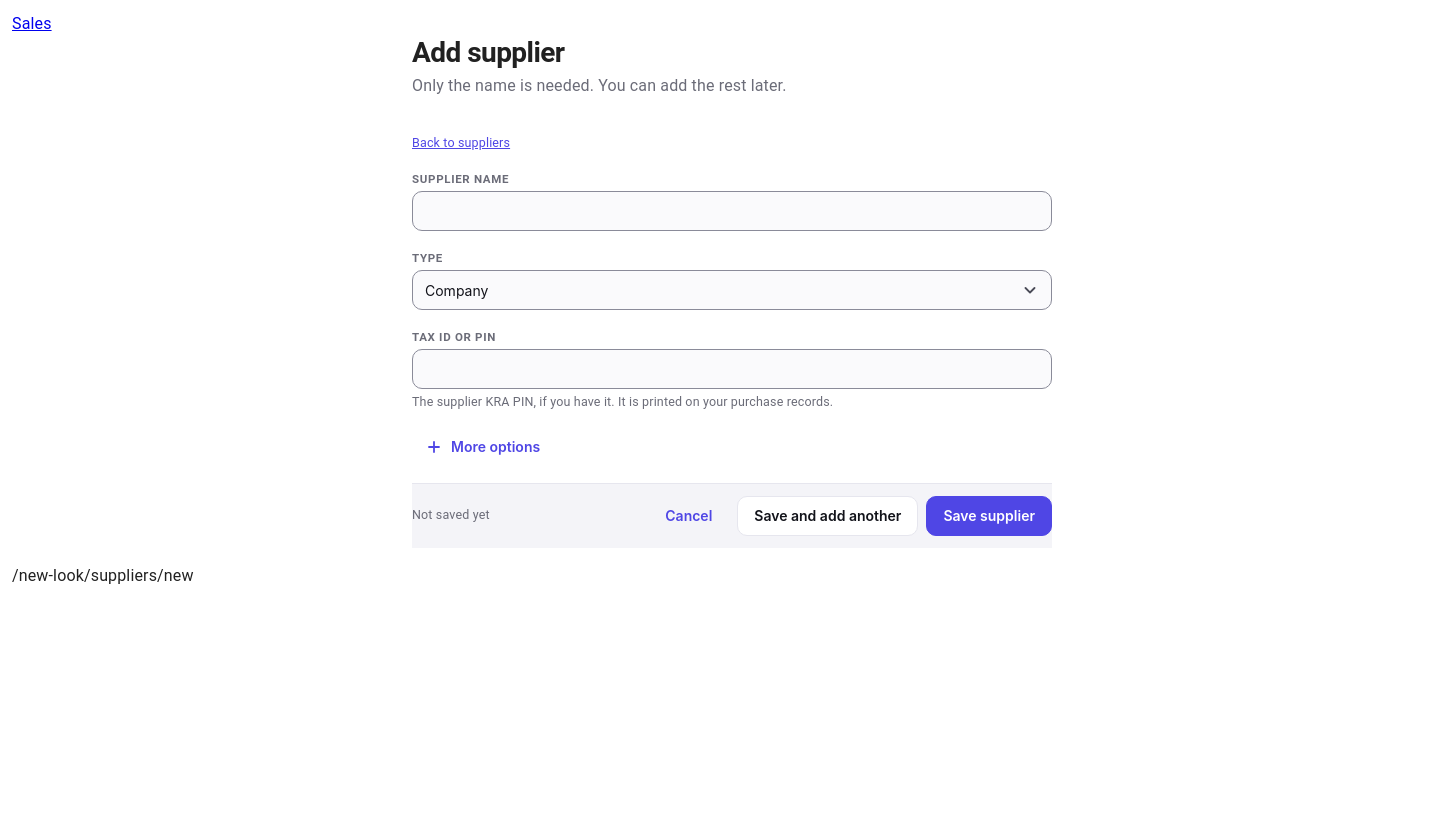
Scenario: errors beside the field and in the summary (AC-26) › a wrong currency hidden under More options opens it by itself and is explained beside the field
The image size is (1452, 822).
In the field labelled "Supplier name": (732, 211) top-left (413, 192), bottom-right (1051, 230), type "Mama Njeri Eggs"
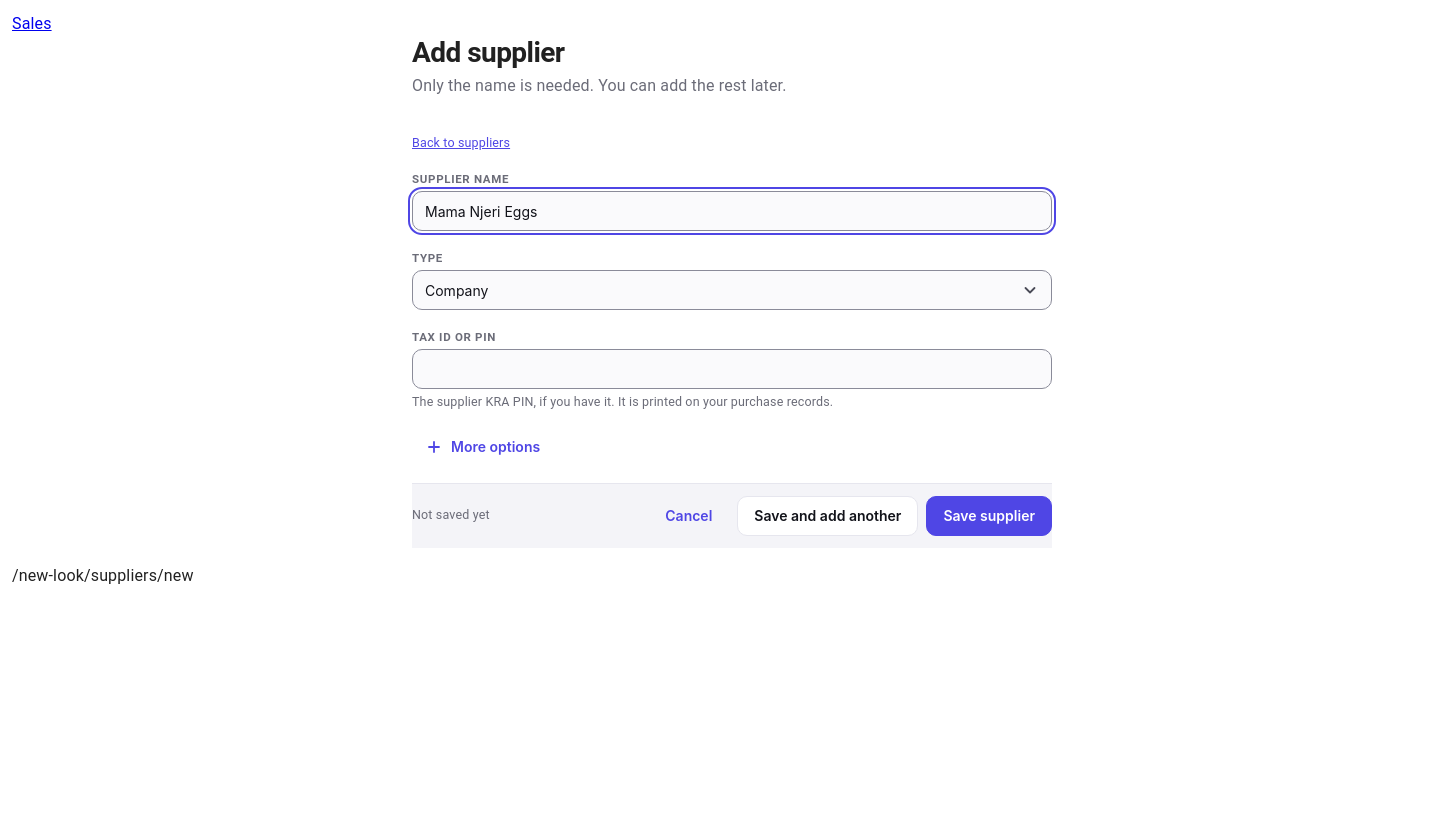
Click the button "More options": (483, 447) top-left (412, 431), bottom-right (553, 463)
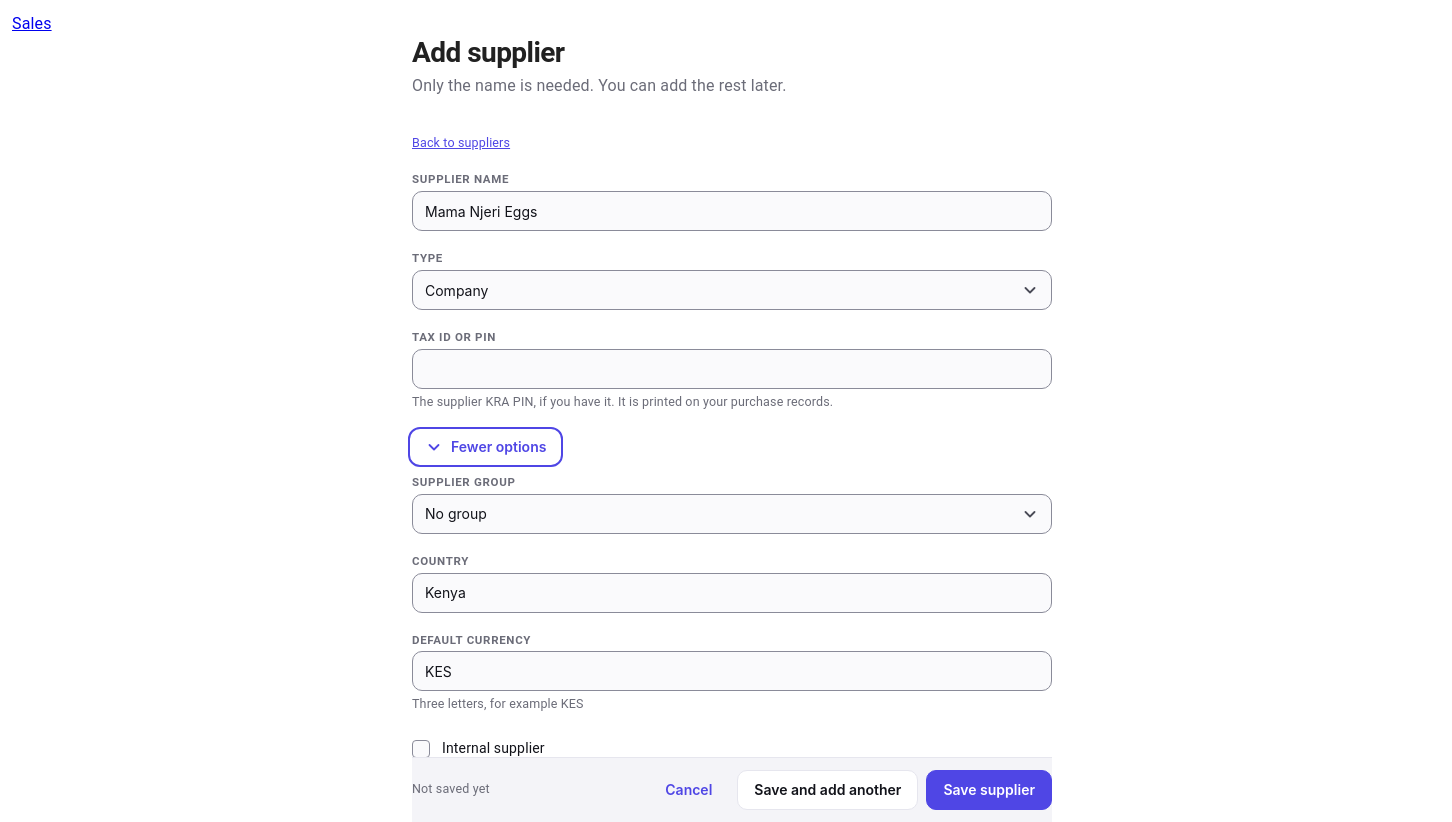
Replace the text in the field labelled "Default currency" with "Shillings": (732, 672) top-left (413, 652), bottom-right (1051, 690)
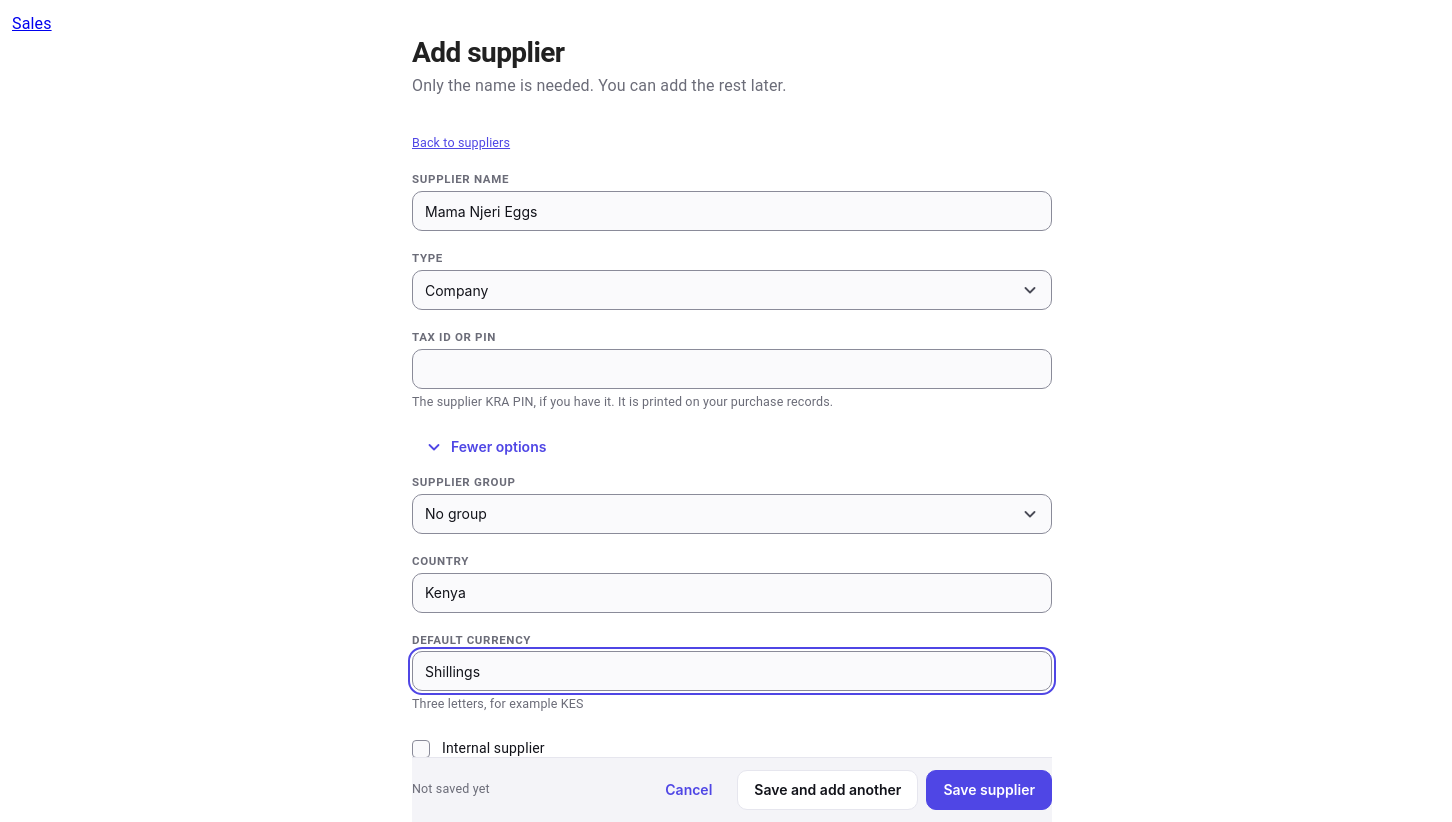
Click the button "Save supplier": (989, 790) top-left (926, 770), bottom-right (1052, 810)
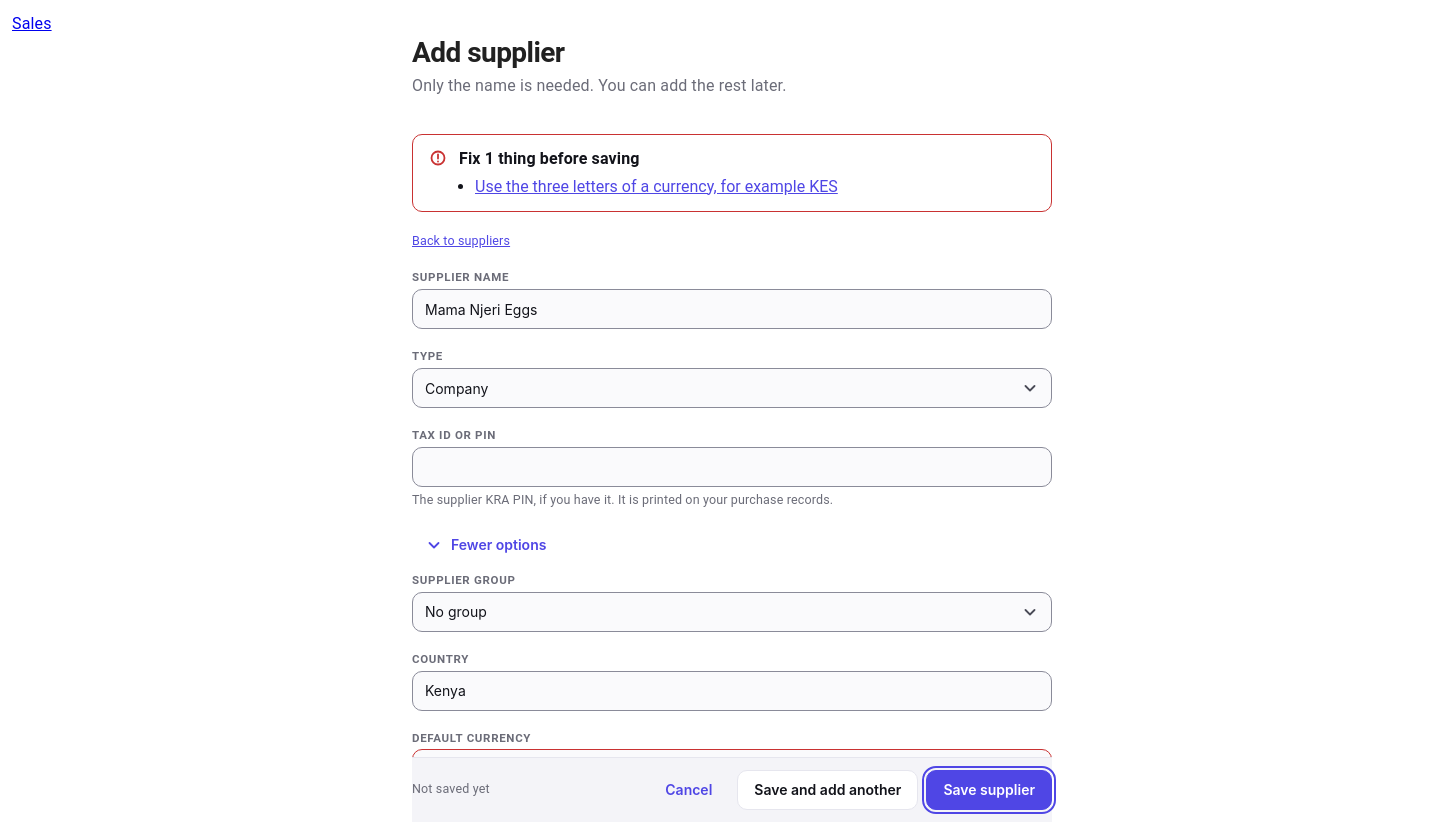
Result: the field labelled "Default currency" is shown at top-left (413, 750), bottom-right (1051, 788)
Result: the number of buttons "Use the three letters of a currency, for example KES" is 2 at top-left (475, 175), bottom-right (838, 199); top-left (434, 794), bottom-right (728, 811)
